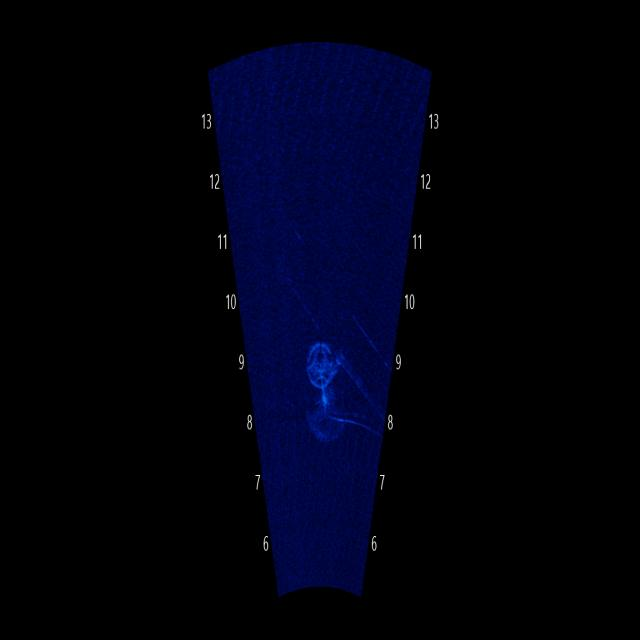circle: (295, 320, 352, 400)
